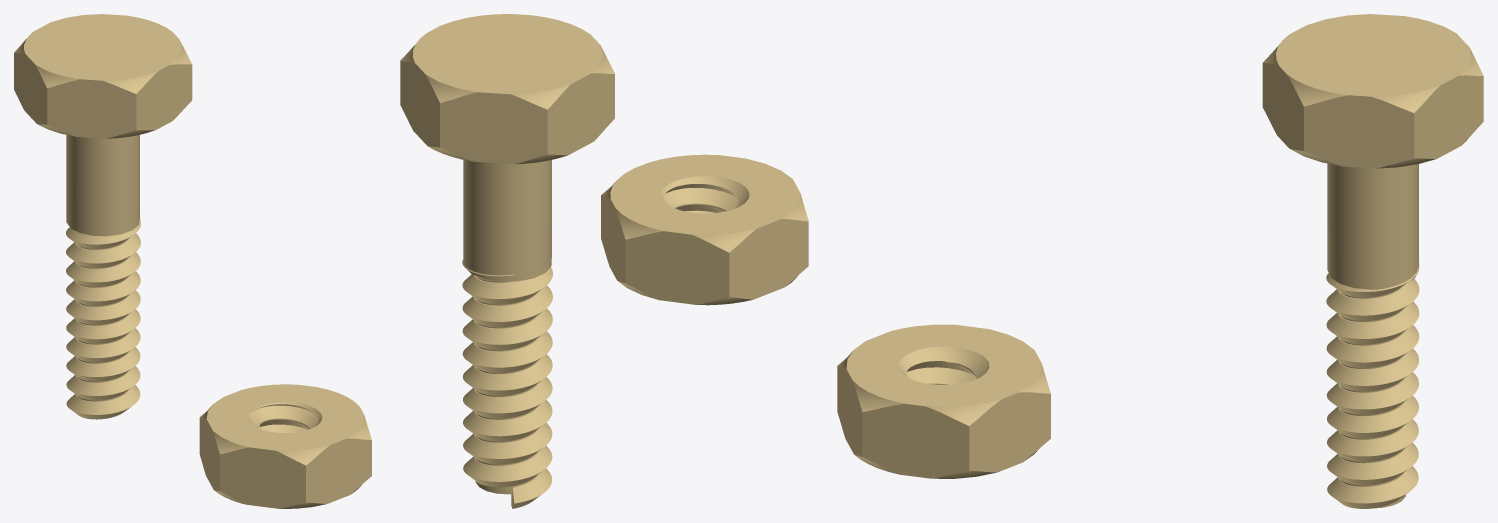
File: nut.glb
3 views of the same model, side by side, from view 1: azimuth 30°, elevation 25°; view 2: azimuth 150°, elevation 25°; view 3: azimuth 270°, elevation 25° (orthographic). The views are drawn at different scales.
Visible parts, largest first — view 1: Object_1_Custom_0, Object_2_Custom_0; view 2: Object_1_Custom_0, Object_2_Custom_0; view 3: Object_1_Custom_0, Object_2_Custom_0.
Boxes of the visible parts, box(x1,y1,x2,y2) form: Object_1_Custom_0: box(14, 14, 192, 419); Object_2_Custom_0: box(199, 384, 371, 508); Object_1_Custom_0: box(400, 14, 614, 508); Object_2_Custom_0: box(601, 154, 808, 305); Object_1_Custom_0: box(1262, 14, 1483, 508); Object_2_Custom_0: box(837, 324, 1050, 478).
Size of the model in its own units: 0.0229 by 0.0507 by 0.0654.
